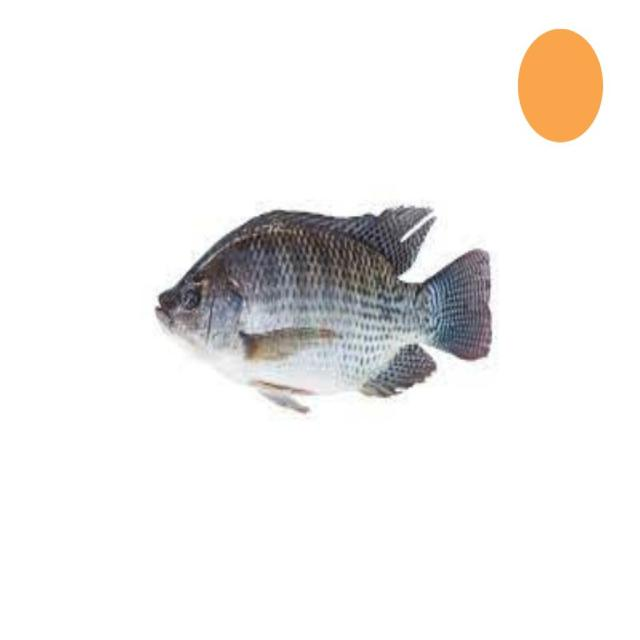ikan: (154, 201, 493, 416)
